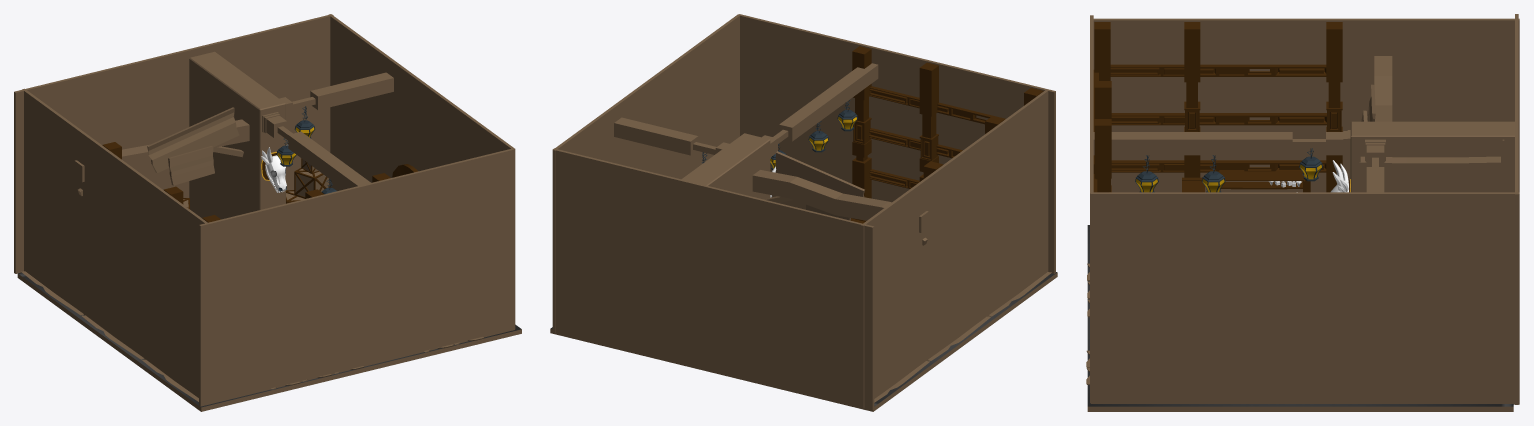
Rendered from CardShopInterior.fbx.
3 renders of one model, left to right at view 1: azimuth 30°, elevation 25°; view 2: azimuth 150°, elevation 25°; view 3: azimuth 270°, elevation 25°, orthographic. The views are drawn at different scales.
Parts seen in each view (by area): view 1: StoreLayoutTest, Counter, GroundBase, SignPlank, CielingRod, CielingRod.001, OverHang, SignPlank.001, Crate.002, DragonSkull; view 2: StoreLayoutTest, OverHang, Counter, GroundBase, CielingRod, WallFraming.004, CielingRod.001, WallFraming.003, SignPlank, WallTrim.005, WallTrim.004, WallTrim.003; view 3: StoreLayoutTest, Counter, CielingRod, GroundBase, WallTrim, WallTrim.002, WallFraming.002, WallTrim.001, WallFraming, Shelf.002, Shelf.001, OverHang (+8 smaller).
Boxes of the visible parts, bbox=[...] form: StoreLayoutTest: bbox=[14, 14, 515, 406]; Counter: bbox=[189, 51, 285, 219]; GroundBase: bbox=[17, 271, 521, 411]; SignPlank: bbox=[147, 107, 239, 173]; CielingRod: bbox=[262, 112, 370, 189]; CielingRod.001: bbox=[279, 72, 393, 117]; OverHang: bbox=[74, 119, 249, 195]; SignPlank.001: bbox=[168, 146, 214, 185]; Crate.002: bbox=[286, 168, 330, 203]; DragonSkull: bbox=[261, 144, 288, 192]; StoreLayoutTest: bbox=[552, 14, 1055, 409]; OverHang: bbox=[752, 170, 928, 245]; Counter: bbox=[681, 133, 770, 199]; GroundBase: bbox=[550, 272, 1057, 411]; CielingRod: bbox=[762, 63, 878, 158]; WallFraming.004: bbox=[852, 46, 871, 198]; CielingRod.001: bbox=[614, 117, 729, 155]; WallFraming.003: bbox=[919, 62, 938, 181]; SignPlank: bbox=[775, 151, 864, 196]; WallTrim.005: bbox=[869, 86, 1005, 124]; WallTrim.004: bbox=[869, 128, 962, 158]; WallTrim.003: bbox=[869, 169, 919, 188]; StoreLayoutTest: bbox=[1090, 14, 1519, 404]; Counter: bbox=[1350, 121, 1514, 192]; CielingRod: bbox=[1093, 130, 1350, 157]; GroundBase: bbox=[1086, 225, 1513, 411]; WallTrim: bbox=[1111, 113, 1326, 125]; WallTrim.002: bbox=[1110, 64, 1326, 76]; WallFraming.002: bbox=[1326, 22, 1342, 192]; WallTrim.001: bbox=[1111, 160, 1326, 172]; WallFraming: bbox=[1184, 22, 1200, 177]; Shelf.002: bbox=[1357, 139, 1510, 192]; Shelf.001: bbox=[1217, 170, 1310, 192]; OverHang: bbox=[1374, 56, 1392, 171].
Bounding box in the file's own units: 2114 × 1159 × 2116.
